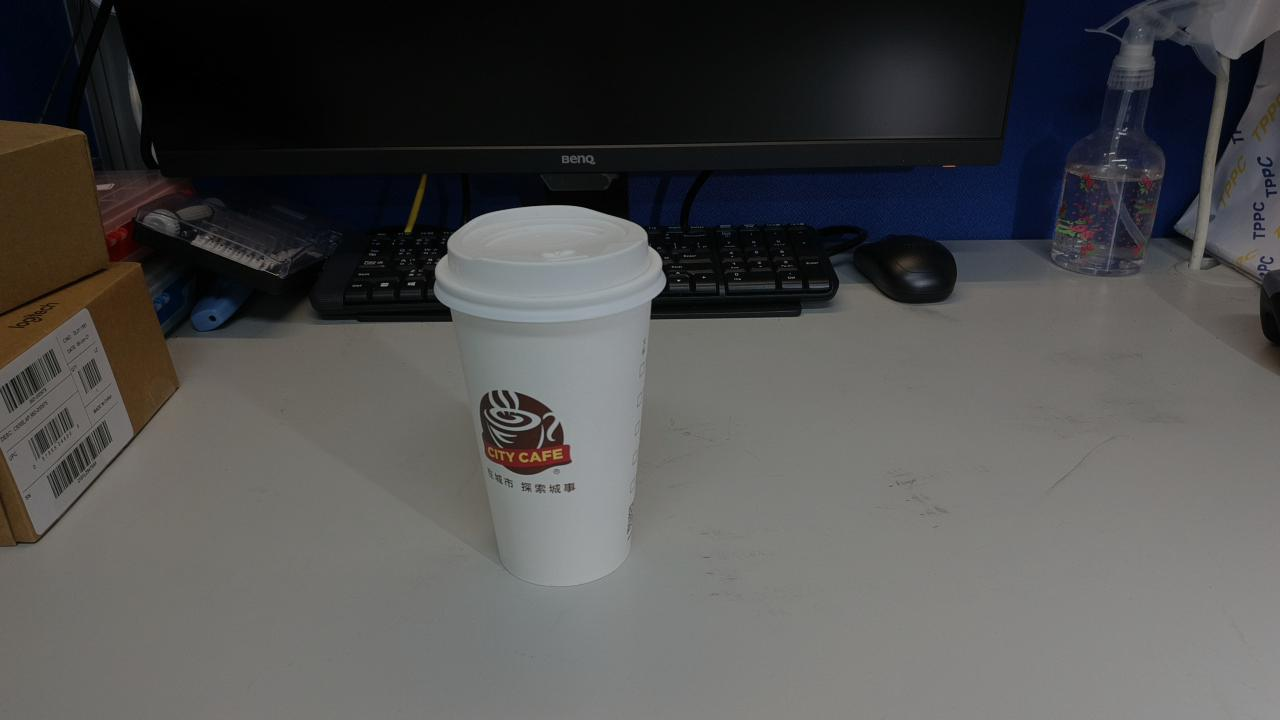long: (809, 426, 1150, 564)
